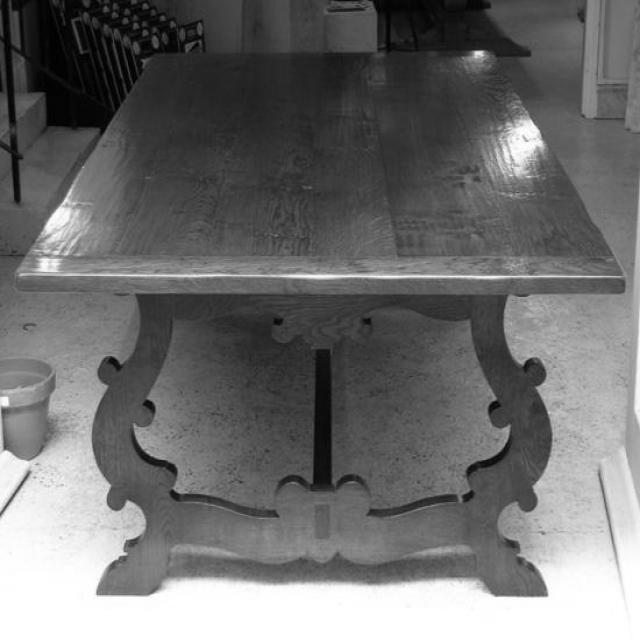table: (15, 46, 626, 600)
